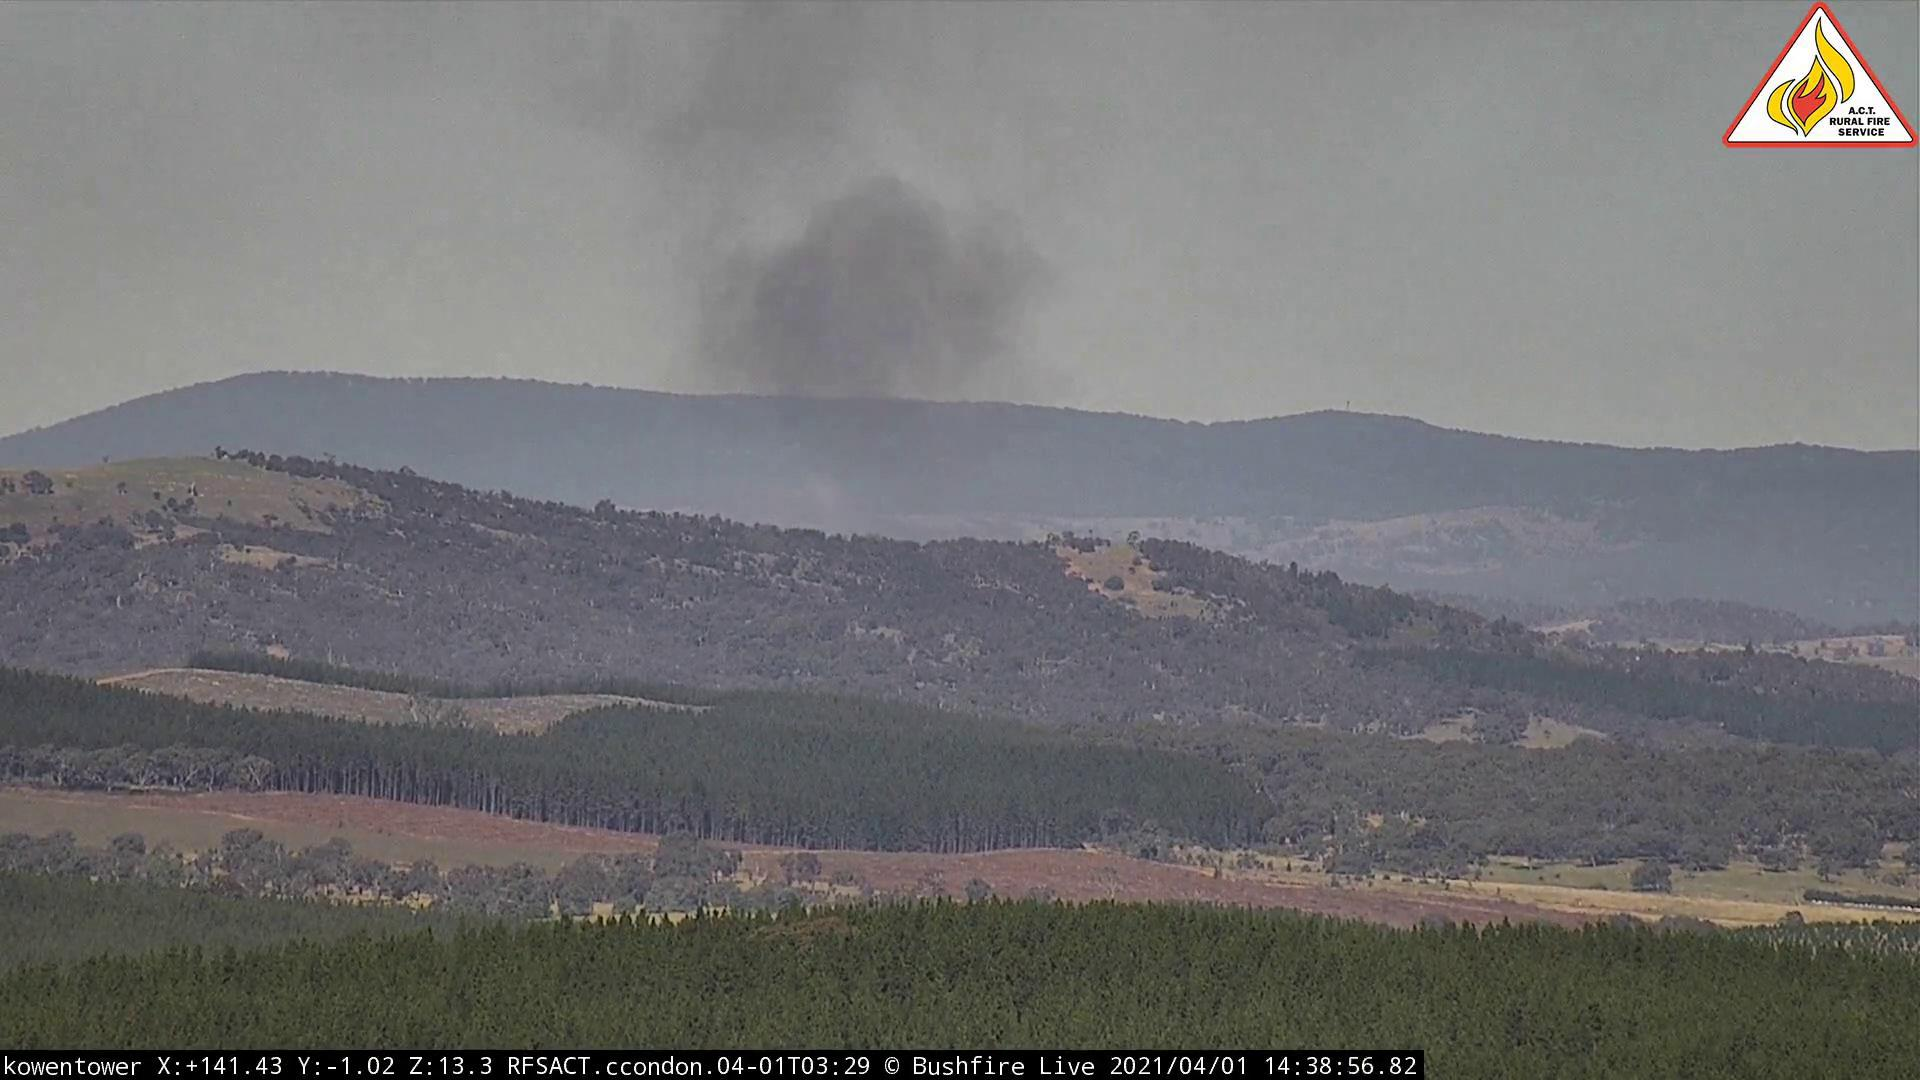Smoke: (550, 3, 1095, 560)
